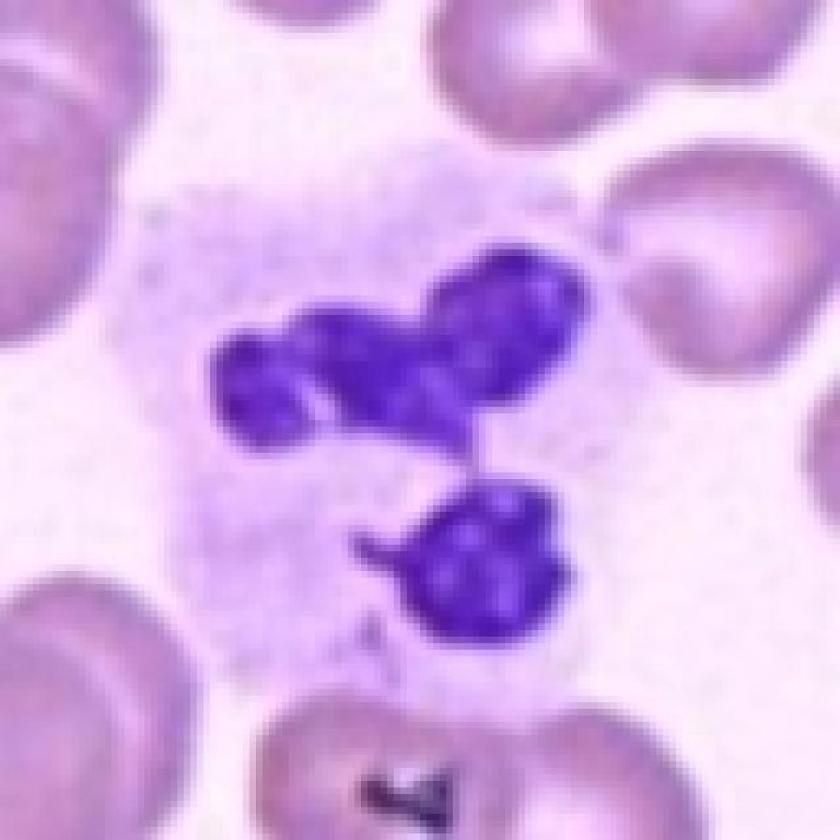neutrophil: (112, 147, 664, 724)
